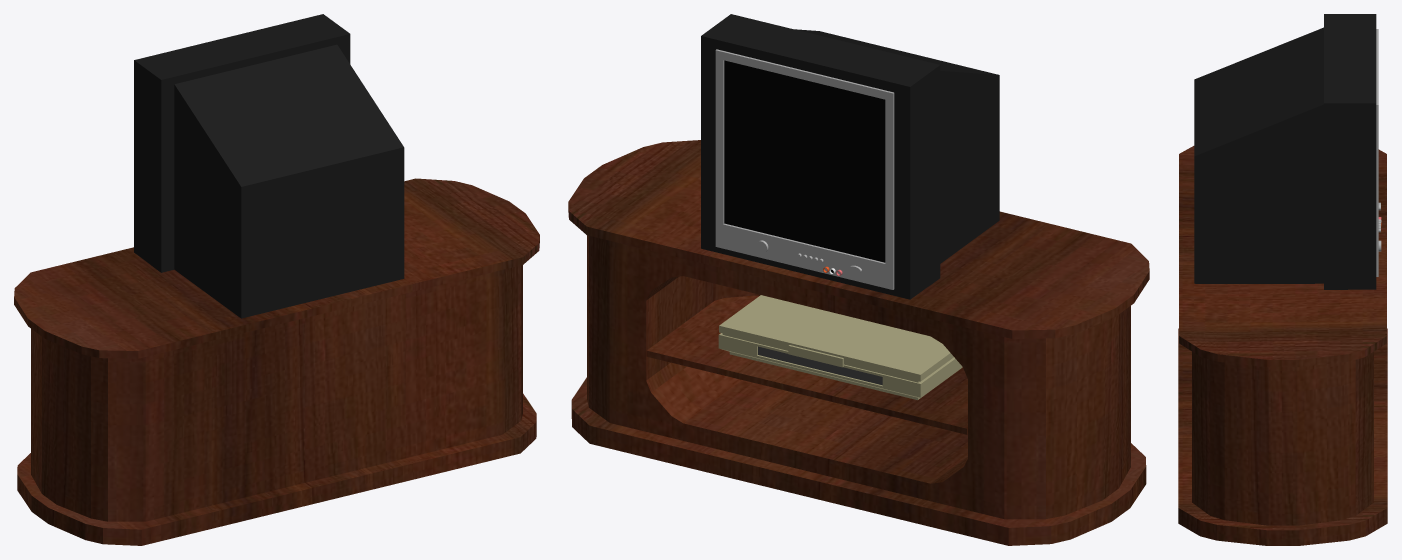
The model's file is TV_and_Stand.fbx.
3 renders of one model, left to right at view 1: azimuth 30°, elevation 25°; view 2: azimuth 150°, elevation 25°; view 3: azimuth 270°, elevation 25°, orthographic. The views are drawn at different scales.
Visible parts, largest first — view 1: Cube.004, YV; view 2: Cube.004, YV; view 3: Cube.004, YV.
Part boxes in pixels (<box>): Cube.004: <box>14,178,539,545</box>; YV: <box>134,14,404,318</box>; Cube.004: <box>568,140,1149,545</box>; YV: <box>701,14,999,299</box>; Cube.004: <box>1178,146,1387,545</box>; YV: <box>1194,14,1381,289</box>.
Size of the model in its own units: 0.2954 by 0.2275 by 0.1151.
